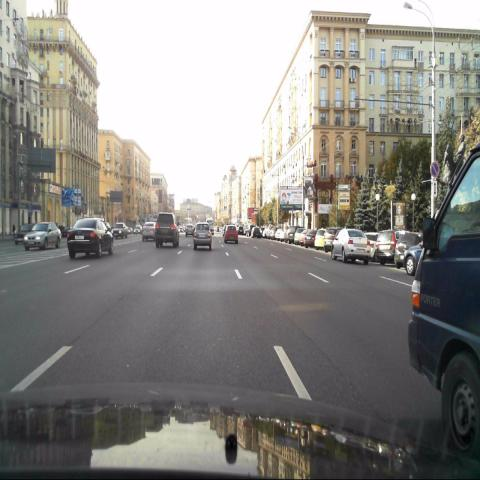3_28: (428, 160, 440, 177)
